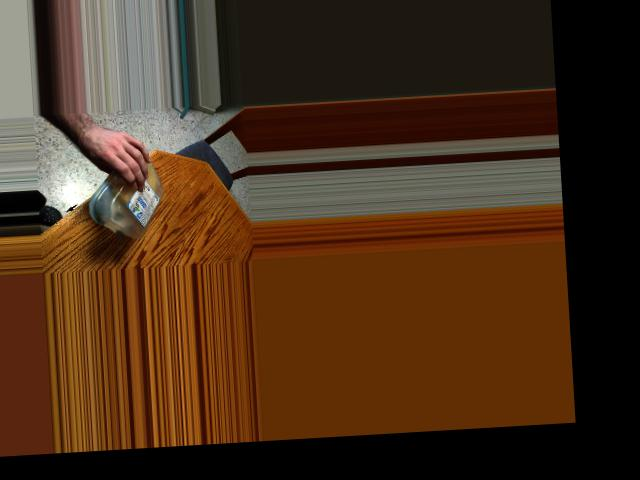cheese: (89, 142, 167, 242)
